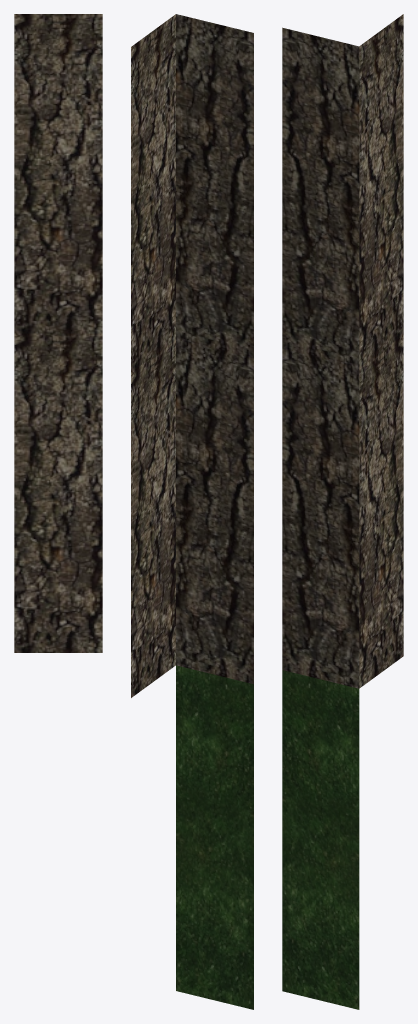
File: woods5TrimCorner.gltf
The picture shows the model from 3 angles, left to right: view 1: azimuth 90°, elevation 25°; view 2: azimuth 150°, elevation 25°; view 3: azimuth 330°, elevation 25°; orthographic projection.
Visible parts, largest first — view 1: woods5TrimCorner; view 2: woods5TrimCorner; view 3: woods5TrimCorner.
Part boxes in pixels (x1,y1,x2,y2): woods5TrimCorner: (14, 14, 102, 652); woods5TrimCorner: (131, 14, 253, 1009); woods5TrimCorner: (282, 14, 403, 1009).
Bounding box in the file's own units: 2 × 24 × 2.
Materials: 2 (2 with a texture image).
